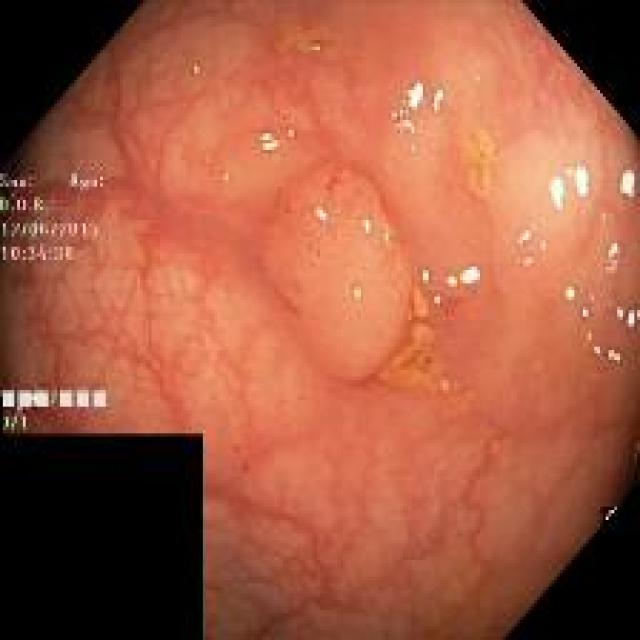Polyps: (264, 166, 414, 383)
